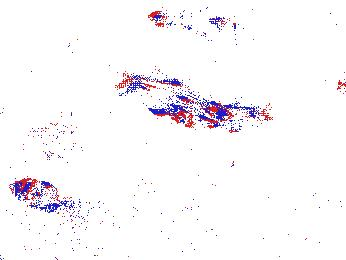X-ray fish: (22, 122, 95, 162), (10, 178, 72, 213)
redtail glassfish: (118, 68, 233, 123), (174, 97, 266, 128), (146, 7, 227, 32)
